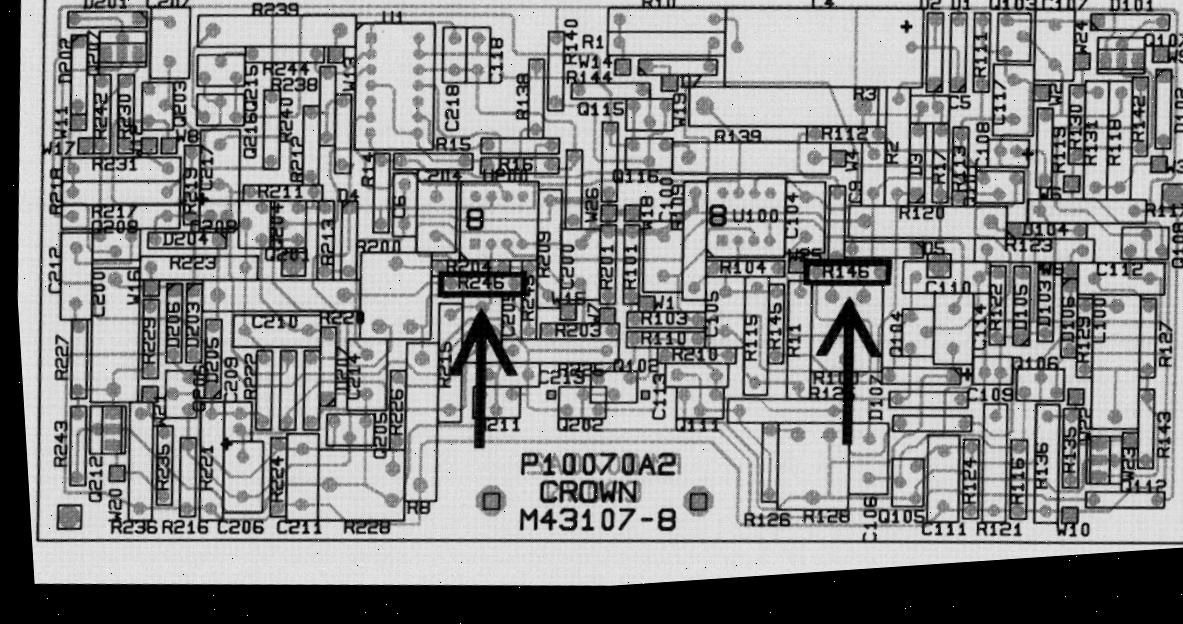compo_name: (231, 57, 268, 161), (403, 156, 471, 196), (258, 447, 298, 511), (431, 74, 469, 139), (41, 413, 79, 476), (693, 281, 729, 344), (509, 268, 547, 327), (774, 180, 809, 244), (479, 28, 515, 89), (856, 367, 892, 427), (877, 303, 912, 364), (188, 439, 224, 497), (505, 63, 537, 128), (82, 261, 115, 324), (874, 495, 930, 532), (158, 223, 229, 252), (725, 197, 782, 233), (980, 276, 1012, 340), (49, 28, 82, 90), (1053, 420, 1086, 482), (39, 239, 72, 301), (184, 207, 241, 242), (551, 236, 585, 294), (1146, 407, 1180, 465), (189, 141, 224, 197), (149, 433, 177, 503), (736, 502, 799, 533), (1005, 277, 1036, 340), (44, 327, 76, 388), (615, 233, 647, 294), (528, 224, 561, 283), (642, 369, 676, 426), (567, 91, 629, 122), (556, 59, 618, 90), (602, 350, 664, 381), (706, 120, 766, 152), (1150, 315, 1183, 372), (86, 85, 117, 145), (78, 24, 110, 82), (78, 448, 110, 506), (1002, 454, 1034, 512), (271, 90, 301, 151), (83, 211, 140, 243), (816, 115, 873, 147), (259, 237, 314, 270), (40, 162, 70, 222), (1028, 273, 1058, 333), (104, 511, 162, 542), (983, 73, 1014, 131), (353, 230, 409, 262), (438, 251, 497, 281), (737, 309, 766, 370), (946, 139, 975, 200), (1124, 88, 1152, 151), (798, 498, 853, 530), (528, 356, 598, 381), (198, 330, 227, 390), (216, 349, 246, 407), (969, 513, 1027, 543), (964, 297, 993, 357), (954, 452, 985, 508), (575, 180, 609, 231), (530, 364, 596, 390), (855, 489, 884, 548), (550, 409, 607, 439), (313, 212, 343, 269), (213, 511, 268, 542), (603, 159, 661, 188), (184, 359, 213, 417), (1026, 437, 1055, 495), (384, 382, 412, 442), (1007, 348, 1063, 378), (132, 311, 162, 367), (159, 510, 215, 540), (651, 170, 681, 226), (174, 162, 205, 216), (250, 178, 307, 207), (265, 70, 322, 99), (1089, 255, 1148, 283), (1099, 112, 1127, 171), (592, 237, 620, 296), (1044, 118, 1072, 177), (962, 379, 1017, 409), (630, 302, 691, 329), (179, 294, 206, 355), (556, 12, 583, 73), (1062, 96, 1088, 158), (1159, 211, 1183, 278), (257, 51, 314, 79), (915, 514, 970, 543), (1054, 289, 1081, 348), (160, 251, 223, 276), (112, 88, 140, 144), (665, 179, 692, 237), (999, 233, 1059, 259), (338, 512, 395, 539), (238, 348, 265, 405), (366, 408, 395, 461), (815, 259, 876, 284), (83, 196, 139, 223), (1083, 291, 1110, 347), (160, 296, 187, 352), (919, 277, 977, 303), (45, 97, 77, 144), (631, 325, 691, 350), (283, 129, 310, 184), (431, 337, 457, 394), (245, 309, 302, 335), (1077, 113, 1103, 170), (242, 0, 303, 24), (1019, 213, 1073, 240), (760, 298, 787, 352), (454, 268, 510, 294), (713, 253, 771, 278), (1071, 309, 1097, 364), (265, 198, 293, 249), (354, 144, 382, 195), (666, 338, 723, 363), (966, 115, 996, 162), (87, 151, 143, 176), (494, 291, 522, 341), (1120, 472, 1170, 499), (330, 342, 355, 396), (671, 412, 722, 438), (119, 263, 149, 307), (164, 122, 211, 150), (892, 202, 944, 227), (638, 291, 688, 317), (984, 0, 1043, 22), (547, 319, 605, 341), (274, 515, 325, 540), (781, 316, 809, 361), (1114, 438, 1141, 484), (1139, 25, 1183, 53), (164, 81, 194, 122), (427, 132, 476, 157), (785, 239, 827, 268), (1065, 15, 1093, 58), (343, 349, 367, 399), (927, 144, 952, 192), (335, 51, 364, 92), (40, 134, 81, 163), (481, 414, 525, 441), (546, 283, 590, 310), (836, 140, 866, 179), (101, 481, 128, 524), (1164, 80, 1183, 141), (1053, 518, 1097, 544), (316, 304, 361, 329), (804, 377, 849, 402), (1139, 195, 1183, 220), (1037, 0, 1094, 19), (634, 190, 658, 235), (575, 46, 615, 73), (137, 0, 199, 17), (145, 391, 172, 430), (667, 90, 691, 131), (914, 235, 950, 262), (1100, 0, 1160, 16), (969, 40, 993, 80), (632, 0, 685, 18), (385, 189, 413, 223), (672, 66, 706, 93), (494, 152, 539, 172), (494, 168, 534, 189), (841, 176, 867, 208), (881, 134, 906, 166), (375, 4, 407, 29), (807, 364, 845, 385), (334, 180, 362, 208), (901, 146, 926, 177), (400, 495, 435, 517), (75, 0, 133, 13), (943, 92, 976, 114), (578, 29, 608, 53), (1160, 149, 1183, 180), (849, 84, 879, 106), (912, 0, 946, 18), (805, 0, 842, 14), (584, 295, 603, 322), (944, 0, 975, 16), (1035, 186, 1062, 204), (1045, 82, 1066, 104), (1173, 43, 1183, 67)
